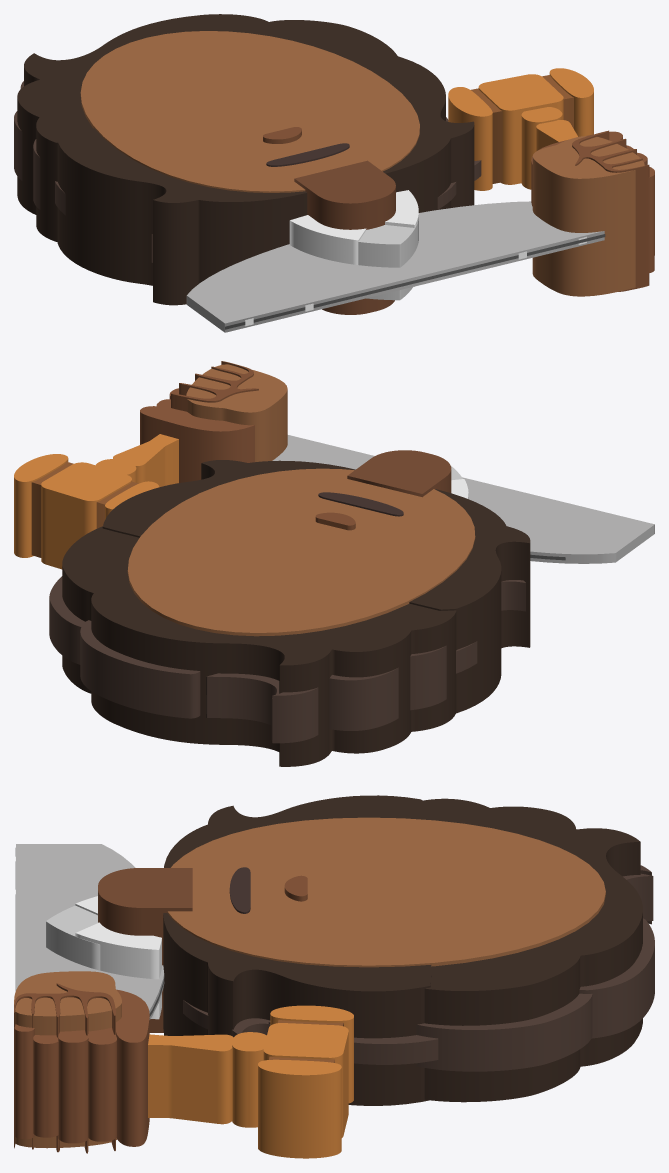
File: emoji_u1f9d1_1f3fe_200d_2696.glb
The picture shows the model from 3 angles, top to bottom: view 1: azimuth 30°, elevation 25°; view 2: azimuth 150°, elevation 25°; view 3: azimuth 270°, elevation 25°; orthographic projection. The views are drawn at different scales.
Visible parts, largest first — view 1: emoji_u1f9d1_1f3fe_200d_2696; view 2: emoji_u1f9d1_1f3fe_200d_2696; view 3: emoji_u1f9d1_1f3fe_200d_2696.
Boxes of the visible parts, <box> form: emoji_u1f9d1_1f3fe_200d_2696: <box>14,14,654,332</box>; emoji_u1f9d1_1f3fe_200d_2696: <box>14,361,654,766</box>; emoji_u1f9d1_1f3fe_200d_2696: <box>14,795,654,1158</box>.
Bounding box in the file's own units: 0.0331 × 0.0078 × 0.0335.
